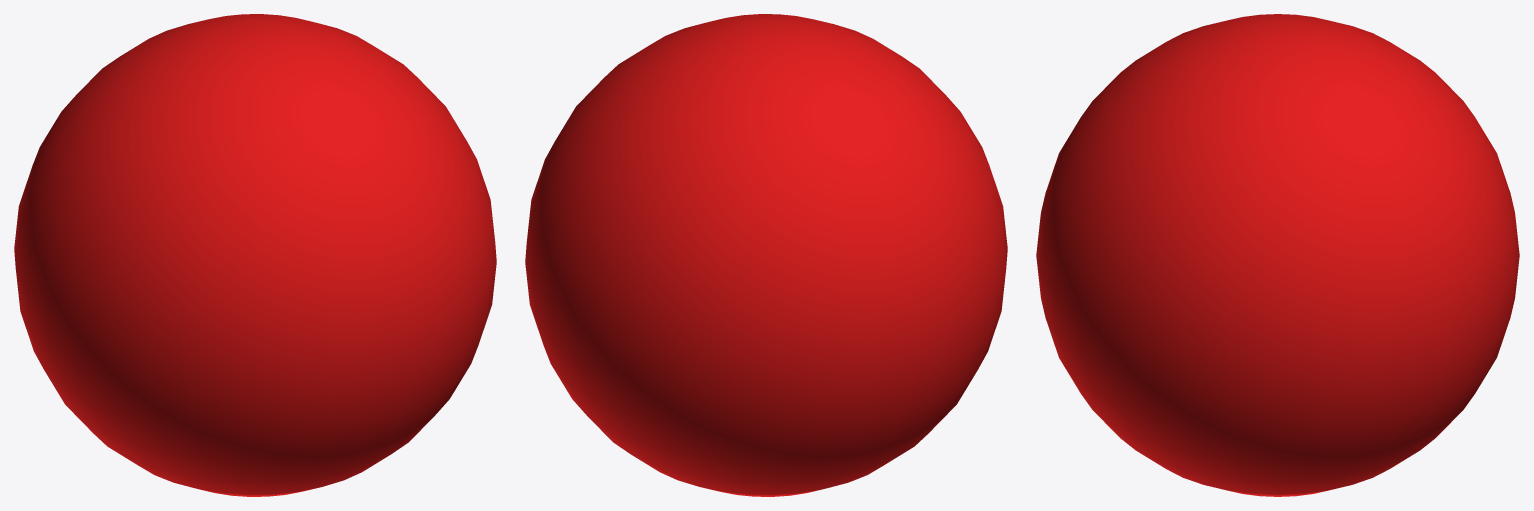
File: kendama_ball.dae
3 views of the same model, side by side, from view 1: azimuth 30°, elevation 25°; view 2: azimuth 150°, elevation 25°; view 3: azimuth 270°, elevation 25° (orthographic).
Parts seen in each view (by area): view 1: kendama_ball; view 2: kendama_ball; view 3: kendama_ball.
Part boxes in pixels (box(x1,y1,x2,y2)): kendama_ball: box(14, 14, 496, 496); kendama_ball: box(525, 14, 1007, 496); kendama_ball: box(1036, 14, 1519, 496).
Size of the model in its own units: 2 by 2 by 1.92.
